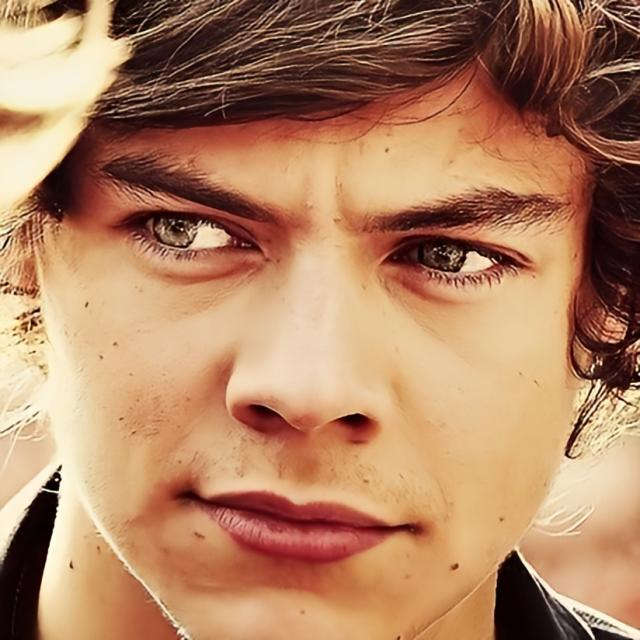anger: (64, 69, 580, 640)
